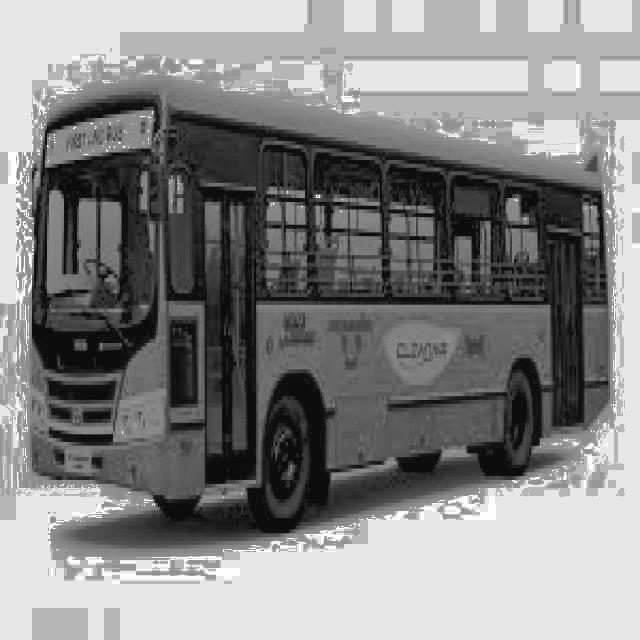Bus: (20, 64, 638, 542)
